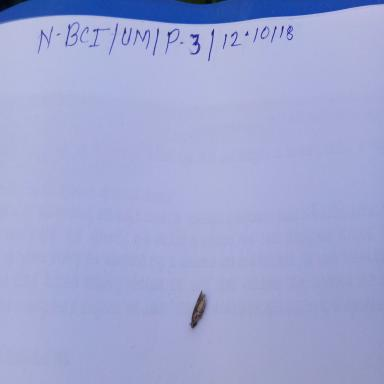pbw: (187, 286, 209, 333)
